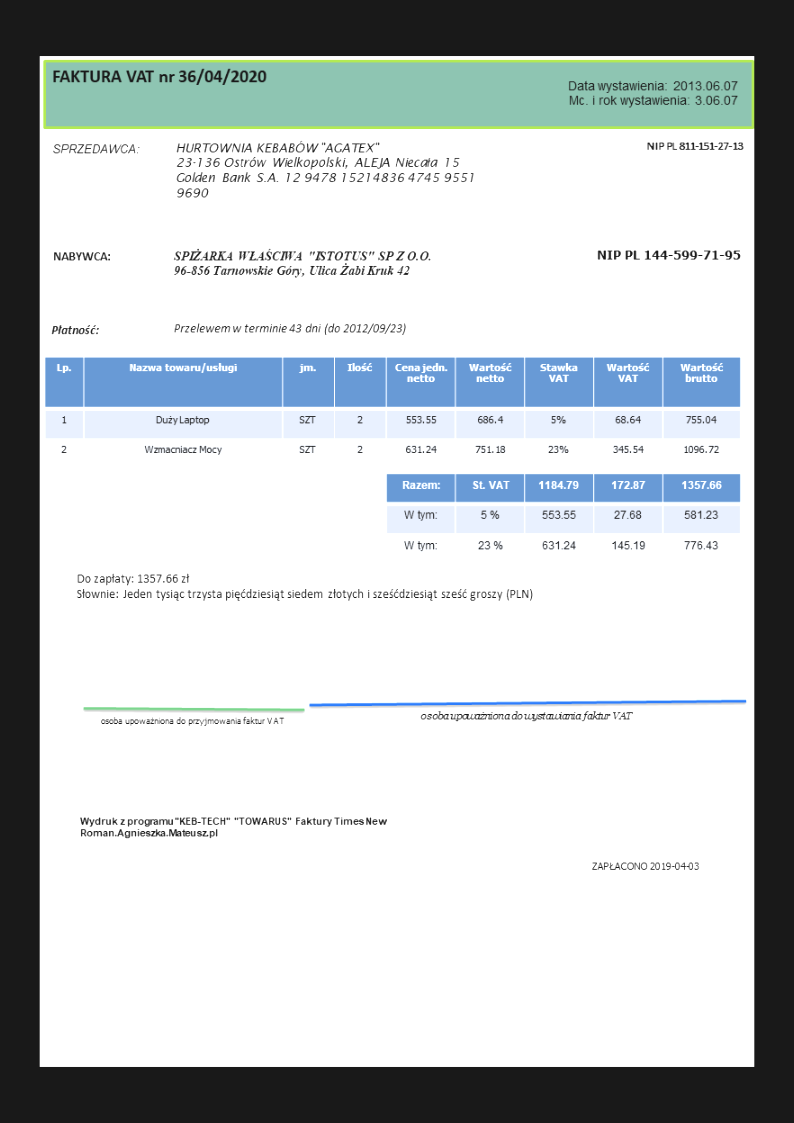Table: (43, 355, 742, 469), (385, 474, 741, 565)
TextBox: (173, 139, 476, 203), (74, 571, 535, 606), (171, 247, 433, 278), (78, 814, 390, 840), (564, 78, 741, 110), (50, 66, 268, 87), (170, 320, 407, 336), (418, 708, 635, 724), (99, 715, 286, 727), (594, 248, 741, 262), (589, 858, 701, 873), (51, 138, 140, 156), (644, 139, 745, 152), (51, 249, 114, 263), (49, 322, 101, 338)
